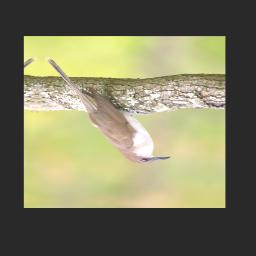Cuckoo: (34, 57, 184, 166)
